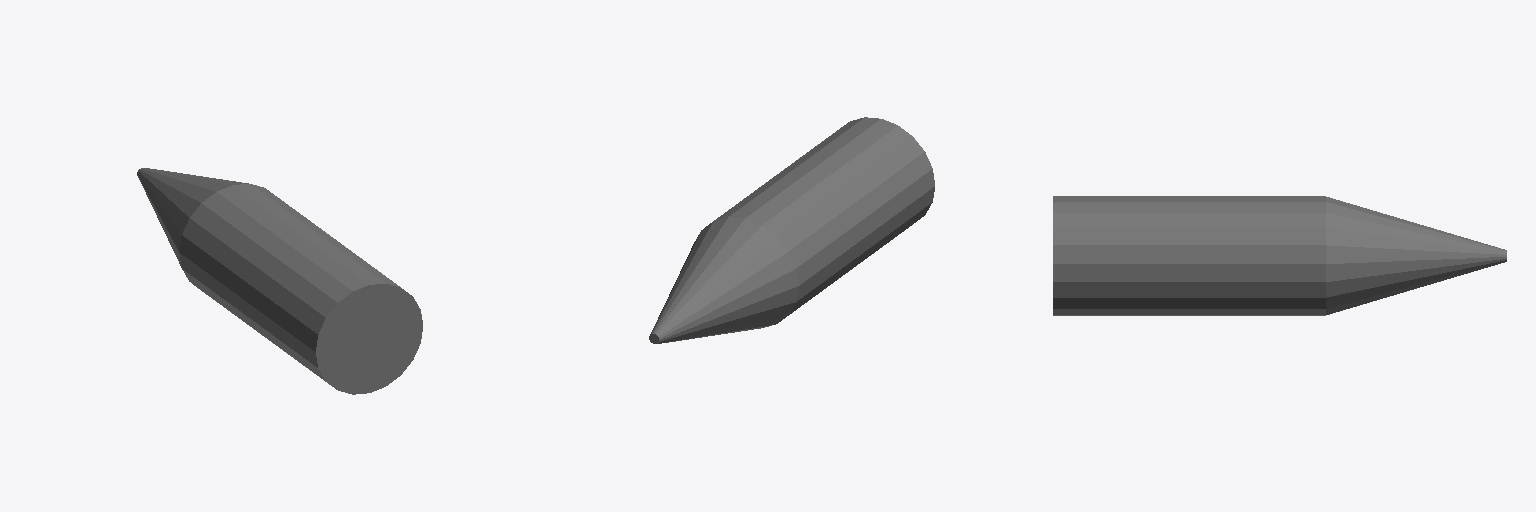
File: Missile.obj
3 views of the same model, side by side, from view 1: azimuth 30°, elevation 25°; view 2: azimuth 150°, elevation 25°; view 3: azimuth 270°, elevation 25° (orthographic).
Parts seen in each view (by area): view 1: pCylinder1; view 2: pCylinder1; view 3: pCylinder1.
Part boxes in pixels (left/top/right/bottom): pCylinder1: left=137, top=168, right=422, bottom=394; pCylinder1: left=649, top=117, right=934, bottom=343; pCylinder1: left=1053, top=196, right=1506, bottom=315.
Size of the model in its own units: 0.1783 by 0.1712 by 0.6507.